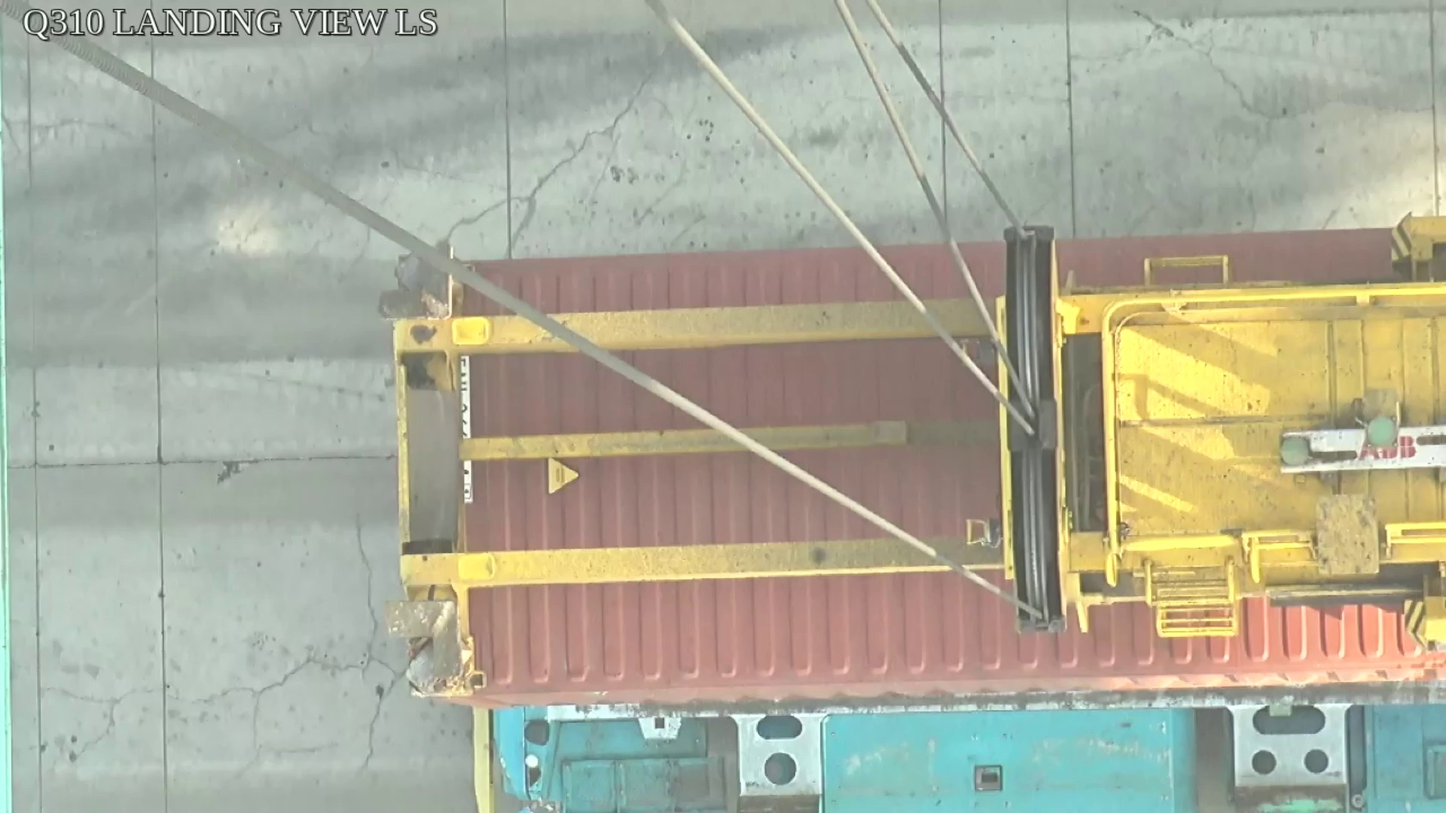aa: (1004, 224, 1072, 633)
